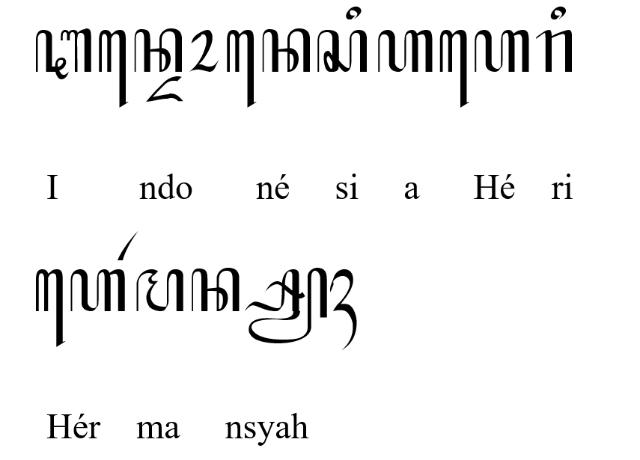I: (36, 28, 92, 80)
_d: (146, 76, 184, 102)
_h1: (329, 268, 357, 350)
_r1: (117, 230, 139, 260)
_sy: (244, 266, 328, 344)
e1: (438, 29, 469, 108), (98, 29, 128, 109), (35, 268, 65, 348), (227, 28, 256, 108)
h: (376, 28, 434, 74), (474, 29, 530, 72), (68, 270, 125, 312)
i: (344, 5, 362, 21), (550, 6, 566, 20)
m: (136, 268, 184, 312)
n: (134, 28, 184, 74), (190, 266, 240, 312), (262, 27, 310, 73)
o: (189, 28, 219, 72)
r: (536, 28, 572, 74)
s: (316, 28, 368, 74)
